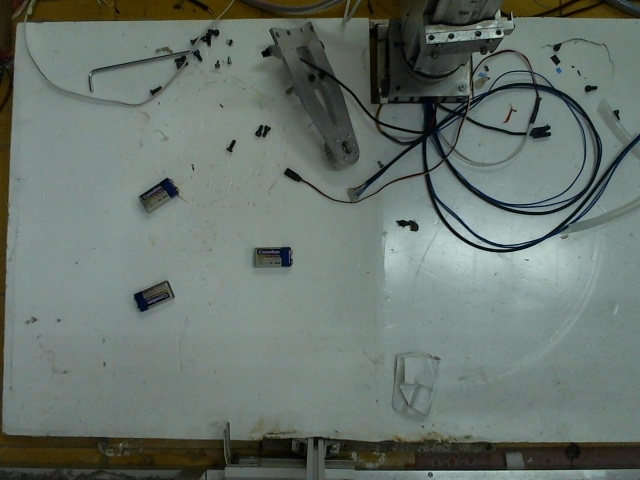battery: (250, 236, 292, 272), (136, 172, 171, 210), (131, 280, 172, 307)
